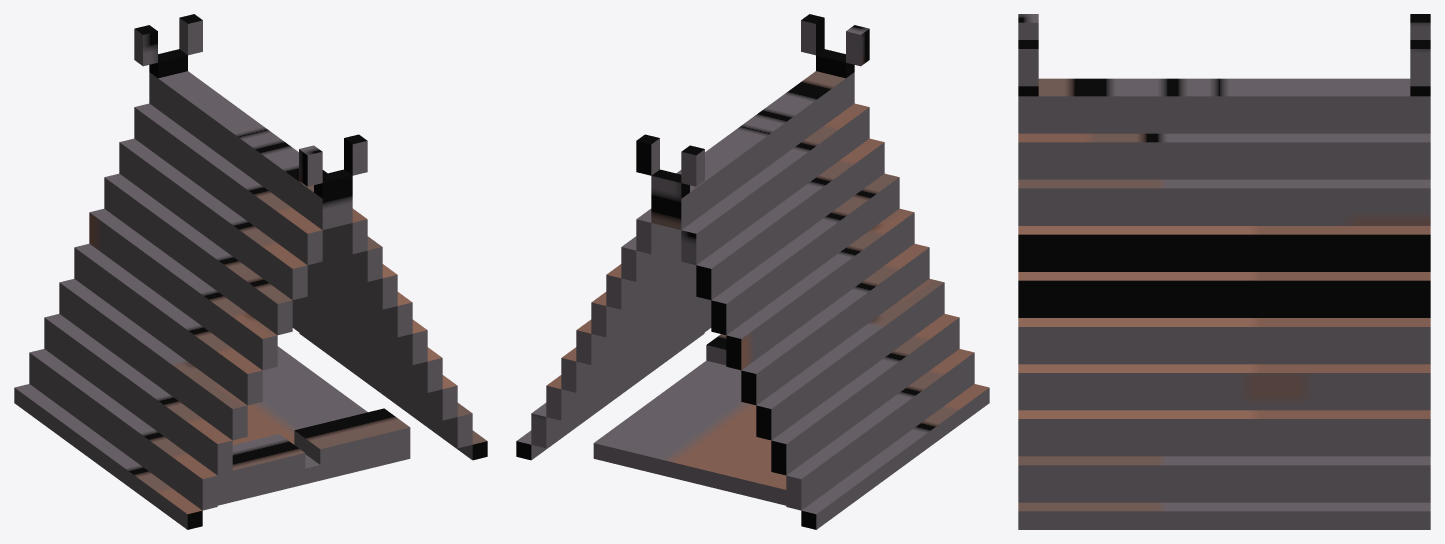
The model's file is indian tent.obj.
3 views of the same model, side by side, from view 1: azimuth 30°, elevation 25°; view 2: azimuth 150°, elevation 25°; view 3: azimuth 270°, elevation 25° (orthographic). The views are drawn at different scales.
Bounding box in the file's own units: 20 × 22 × 20.
